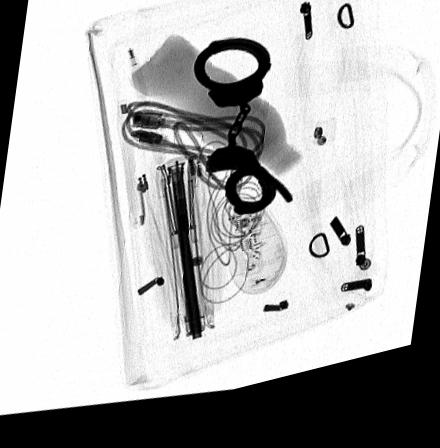HandCuffs: (193, 49, 294, 226)
